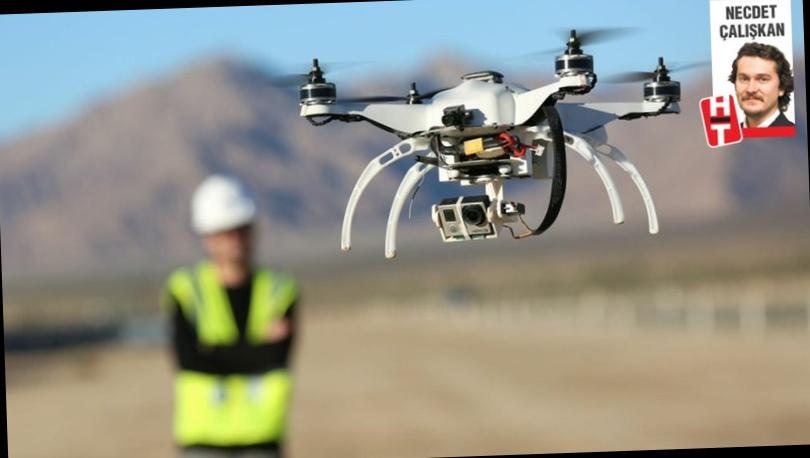drone: (278, 27, 702, 194)
